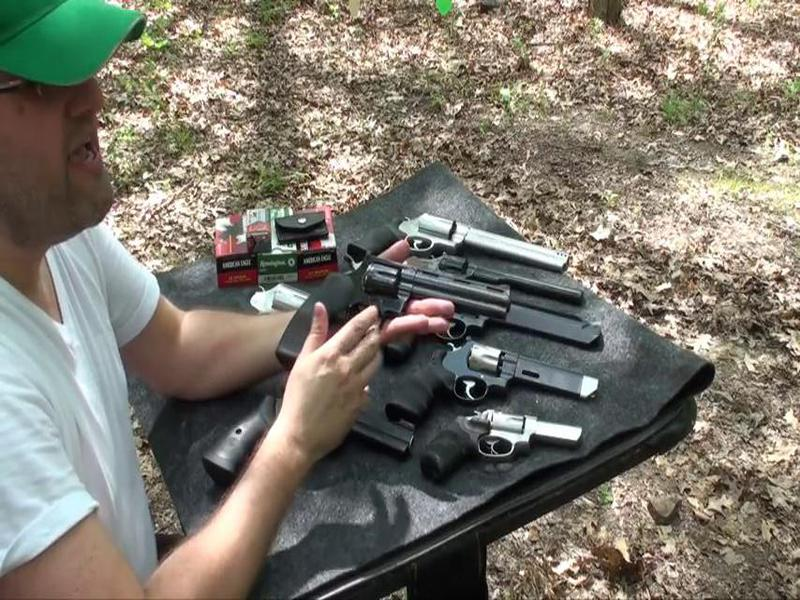Revolver: (275, 234, 488, 390)
